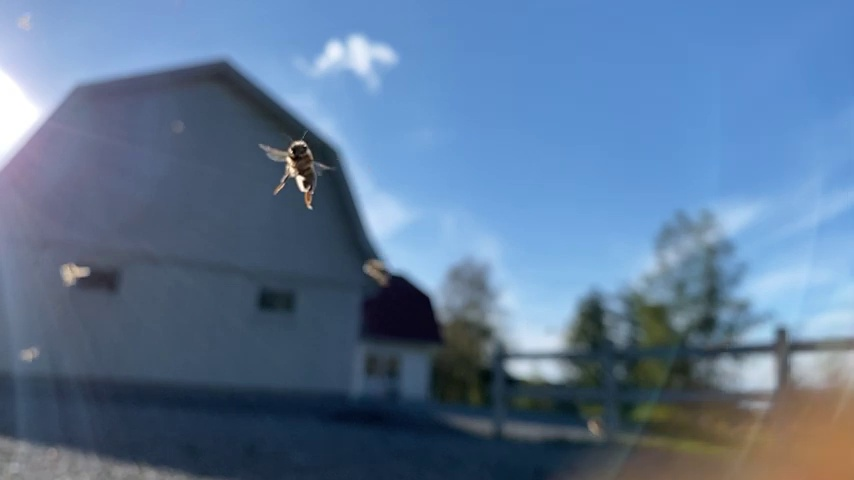insect: (258, 130, 335, 211)
